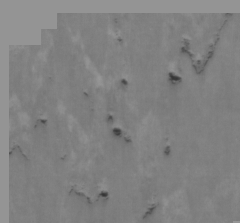oxl: (35, 10, 205, 213)
